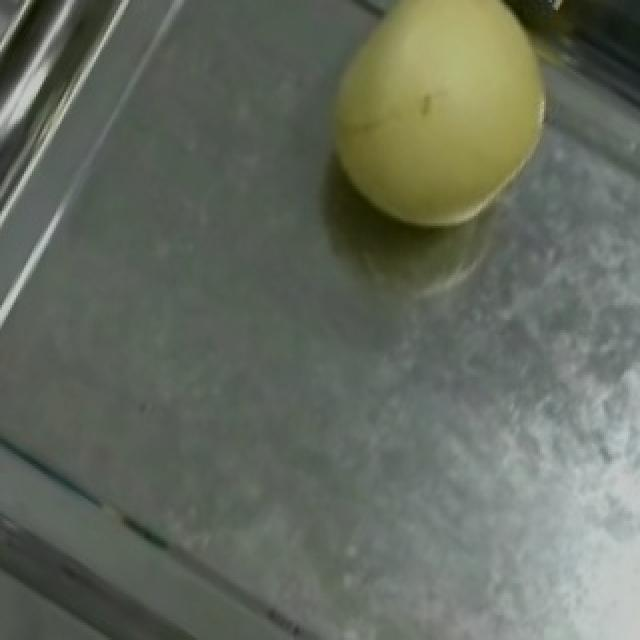Fruit: (282, 0, 582, 263)
